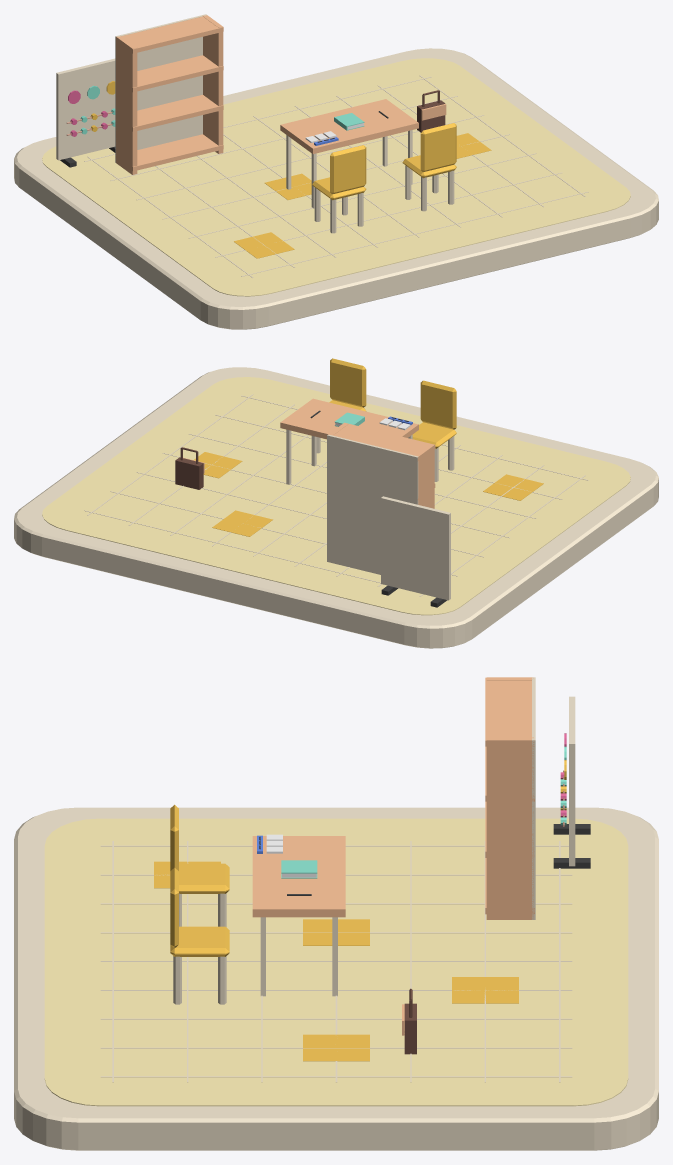
3 views of the same model, one above another, from view 1: azimuth 30°, elevation 25°; view 2: azimuth 150°, elevation 25°; view 3: azimuth 270°, elevation 25° (orthographic). The views are drawn at different scales.
Visible parts, largest first — view 1: COM-02 Floor Surface, COM-01 Rounded Base Direct, Panel, Top, Back, Side, Side.001, Shelf.003, Shelf, Shelf.002, Shelf.001, Backrest (+8 smaller); view 2: COM-02 Floor Surface, COM-01 Rounded Base Direct, Back, Panel, Top, Backrest, Backrest.001, Shelf.003, Side, Bag, Geometric color tile.002, Geometric color tile (+2 smaller); view 3: COM-02 Floor Surface, COM-01 Rounded Base Direct, Side.001, Top, Shelf.003, Geometric color tile.003, Geometric color tile.002, Geometric color tile.001, Seat.001, Seat, Panel, Back (+6 smaller).
Boxes of the visible parts, x1,y1,x2,y2 form: COM-02 Floor Surface: [42, 58, 630, 296]; COM-01 Rounded Base Direct: [14, 48, 658, 329]; Panel: [56, 58, 115, 160]; Top: [280, 99, 418, 208]; Back: [115, 14, 206, 162]; Side: [116, 36, 137, 174]; Side.001: [202, 15, 223, 153]; Shelf.003: [122, 16, 223, 53]; Shelf: [119, 134, 223, 171]; Shelf.002: [124, 55, 223, 92]; Shelf.001: [124, 94, 223, 131]; Backrest: [330, 145, 366, 194]; COM-02 Floor Surface: [42, 377, 630, 615]; COM-01 Rounded Base Direct: [14, 367, 658, 648]; Back: [327, 434, 418, 574]; Panel: [381, 496, 450, 600]; Top: [280, 398, 418, 484]; Backrest: [420, 380, 456, 429]; Backrest.001: [330, 358, 366, 407]; Shelf.003: [333, 422, 435, 461]; Side: [414, 444, 434, 508]; Bag: [175, 447, 204, 489]; Geometric color tile.002: [212, 510, 272, 536]; Geometric color tile: [483, 474, 543, 500]; COM-02 Floor Surface: [44, 818, 628, 1106]; COM-01 Rounded Base Direct: [14, 807, 658, 1150]; Side.001: [486, 737, 533, 919]; Top: [252, 836, 345, 996]; Shelf.003: [485, 677, 534, 746]; Geometric color tile.003: [303, 1034, 369, 1061]; Geometric color tile.002: [452, 977, 518, 1003]; Geometric color tile.001: [303, 919, 369, 945]; Seat.001: [170, 926, 229, 956]; Seat: [179, 863, 229, 893]; Panel: [569, 696, 575, 866]; Back: [532, 677, 535, 919].
Size of the model in its own units: 6 by 1.9 by 5.2.
1 material, 1 textured.
